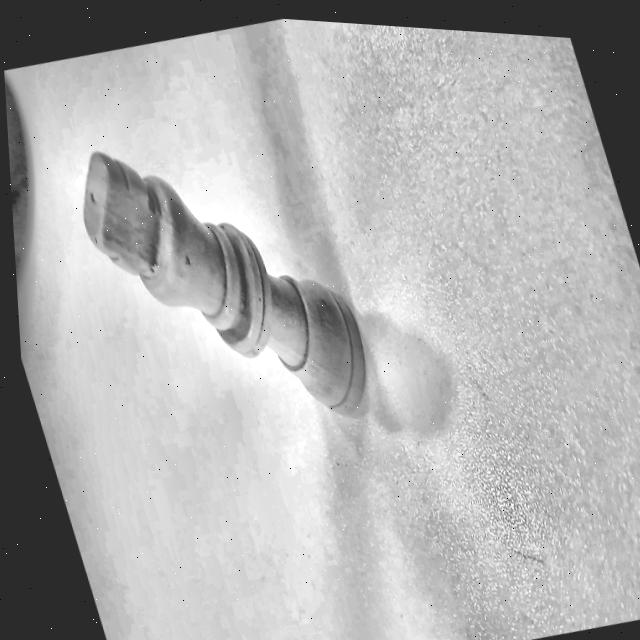white-king: (14, 16, 451, 542)
